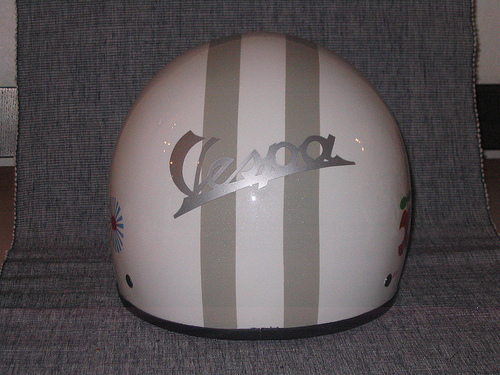helmet: (107, 54, 418, 312)
